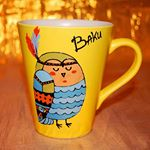cups: (16, 16, 143, 140)
